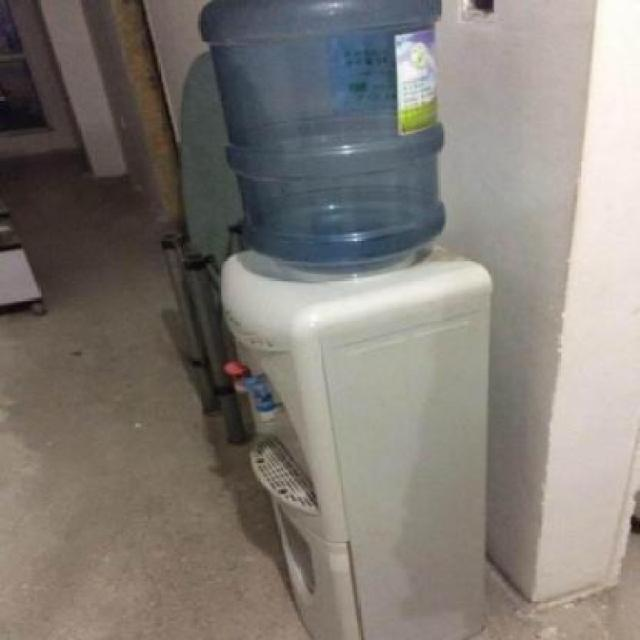coolerbottle: (192, 0, 449, 275)
